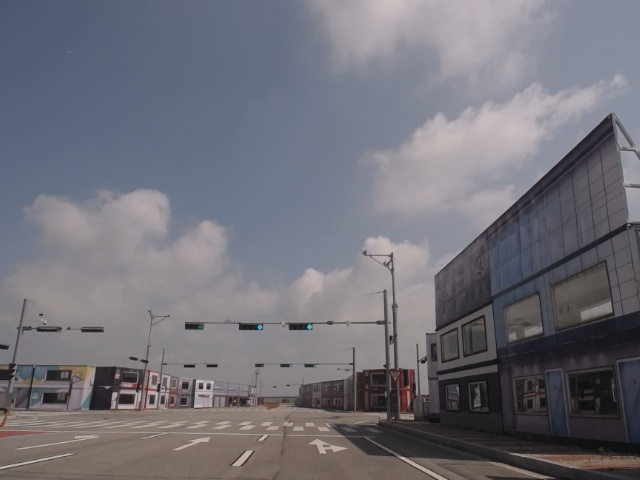straight_green_4: (290, 323, 314, 332), (239, 323, 264, 331)
